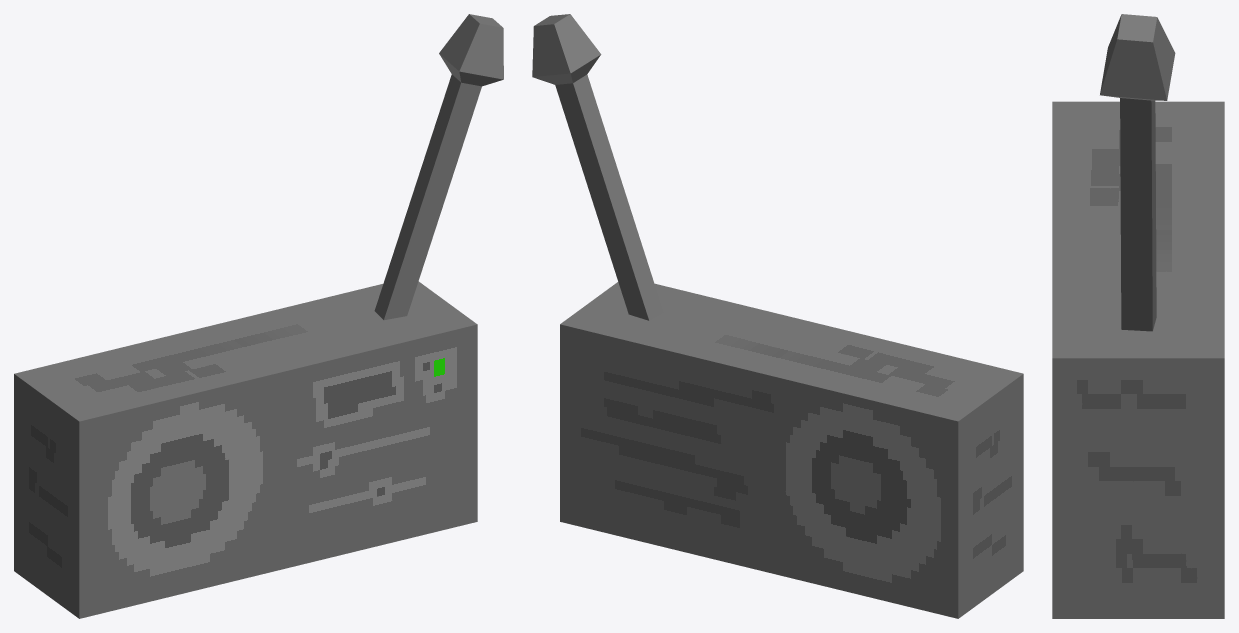
Rendered from Radio.glb.
3 renders of one model, left to right at view 1: azimuth 30°, elevation 25°; view 2: azimuth 150°, elevation 25°; view 3: azimuth 270°, elevation 25°, orthographic. The views are drawn at different scales.
Visible parts, largest first — view 1: Cube.001; view 2: Cube.001; view 3: Cube.001.
Part boxes in pixels (left/top/right/bottom): Cube.001: left=14, top=14, right=503, bottom=618; Cube.001: left=532, top=14, right=1023, bottom=618; Cube.001: left=1052, top=14, right=1224, bottom=618.
Size of the model in its own units: 0.8079 by 0.807 by 0.2025.
Materials: 1 (1 with a texture image).
